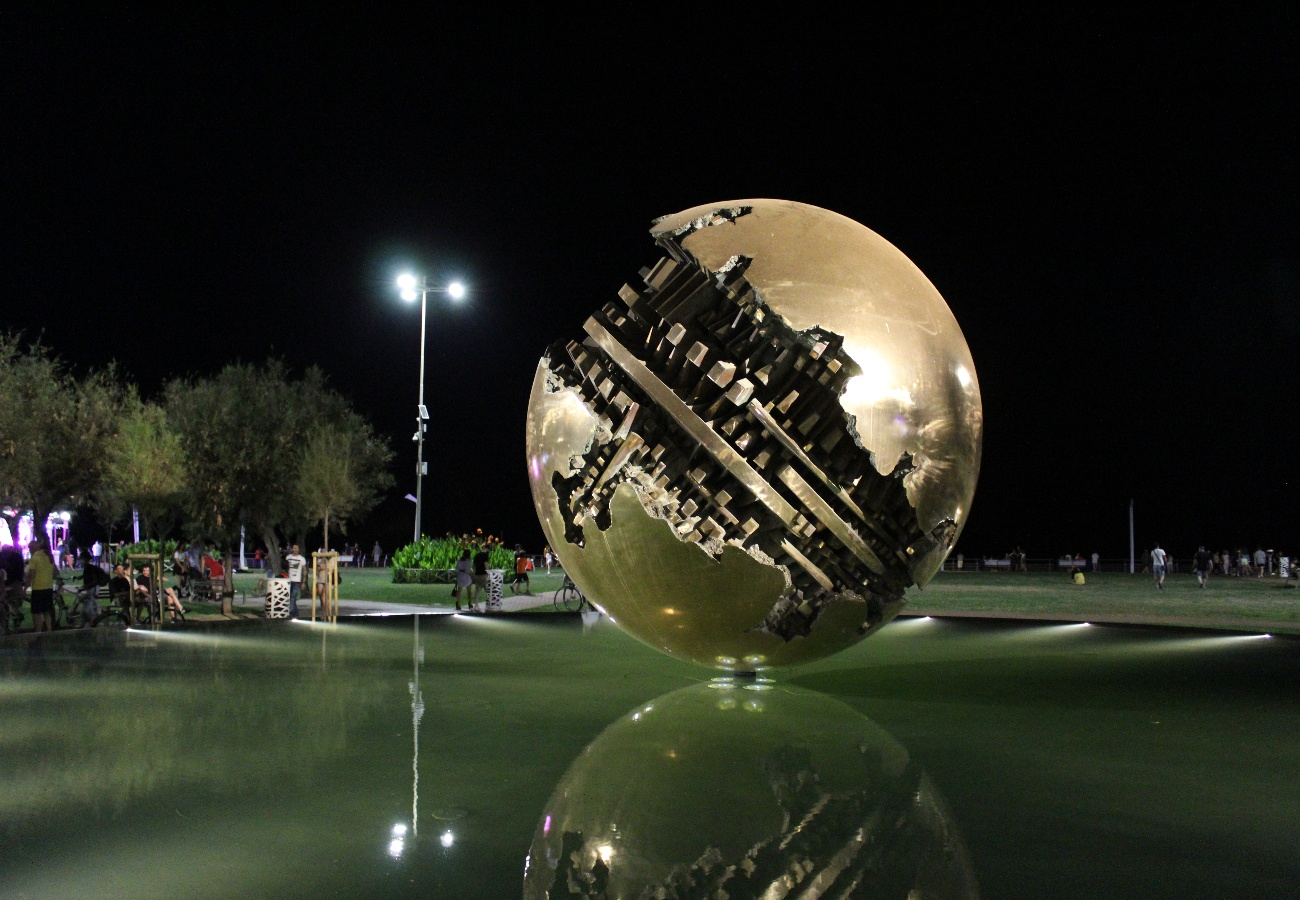Palla di Pomodoro: (523, 197, 983, 676)
